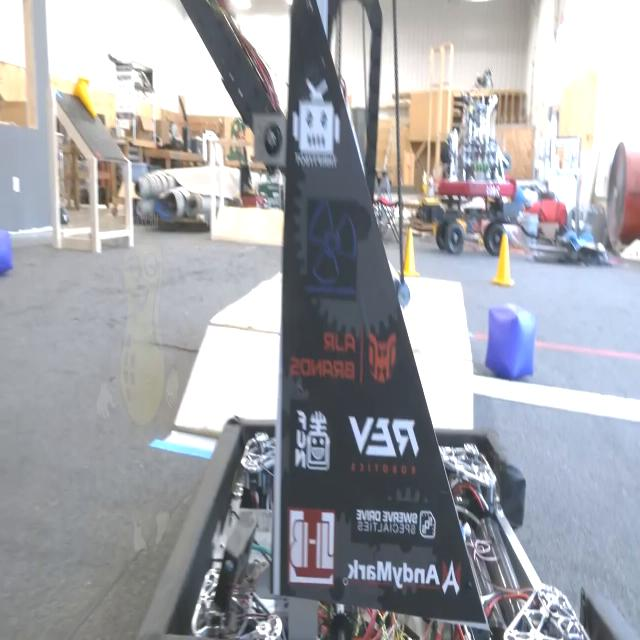frc_cone: (401, 224, 424, 282), (494, 237, 516, 281)
frc_cube: (482, 297, 540, 383), (0, 227, 17, 274)
